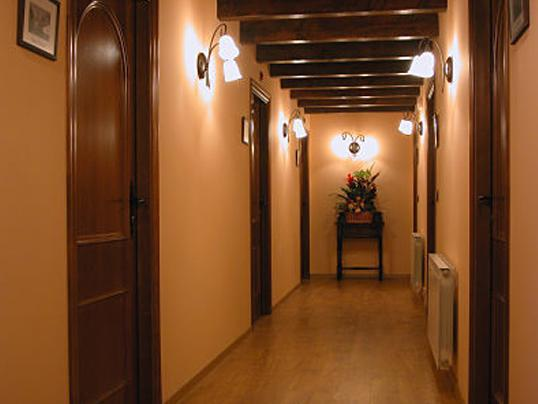Puerta: (67, 3, 157, 402), (469, 6, 510, 403), (251, 82, 269, 315)
